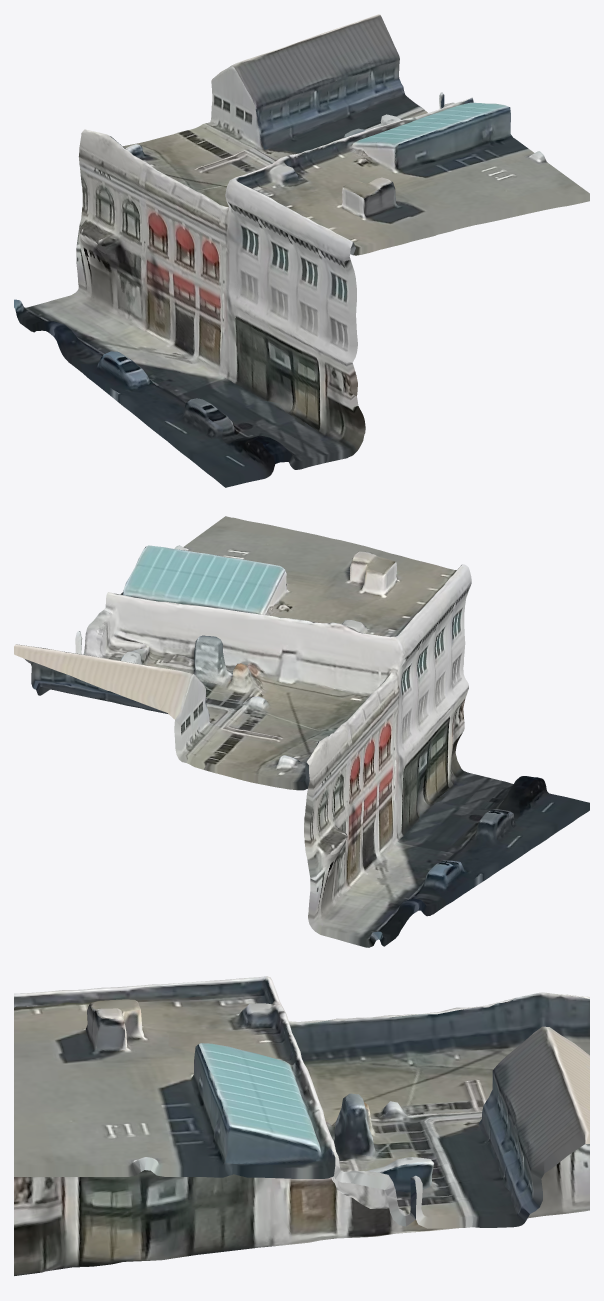
File: z20-167754-405245-h0-yup-uvflip-v3-world.glb
3 renders of one model, top to bottom at view 1: azimuth 30°, elevation 25°; view 2: azimuth 150°, elevation 25°; view 3: azimuth 270°, elevation 25°, orthographic. The views are drawn at different scales.
Bounding box in the file's own units: 30.16 × 18.68 × 30.32.
1 material, 1 textured.
